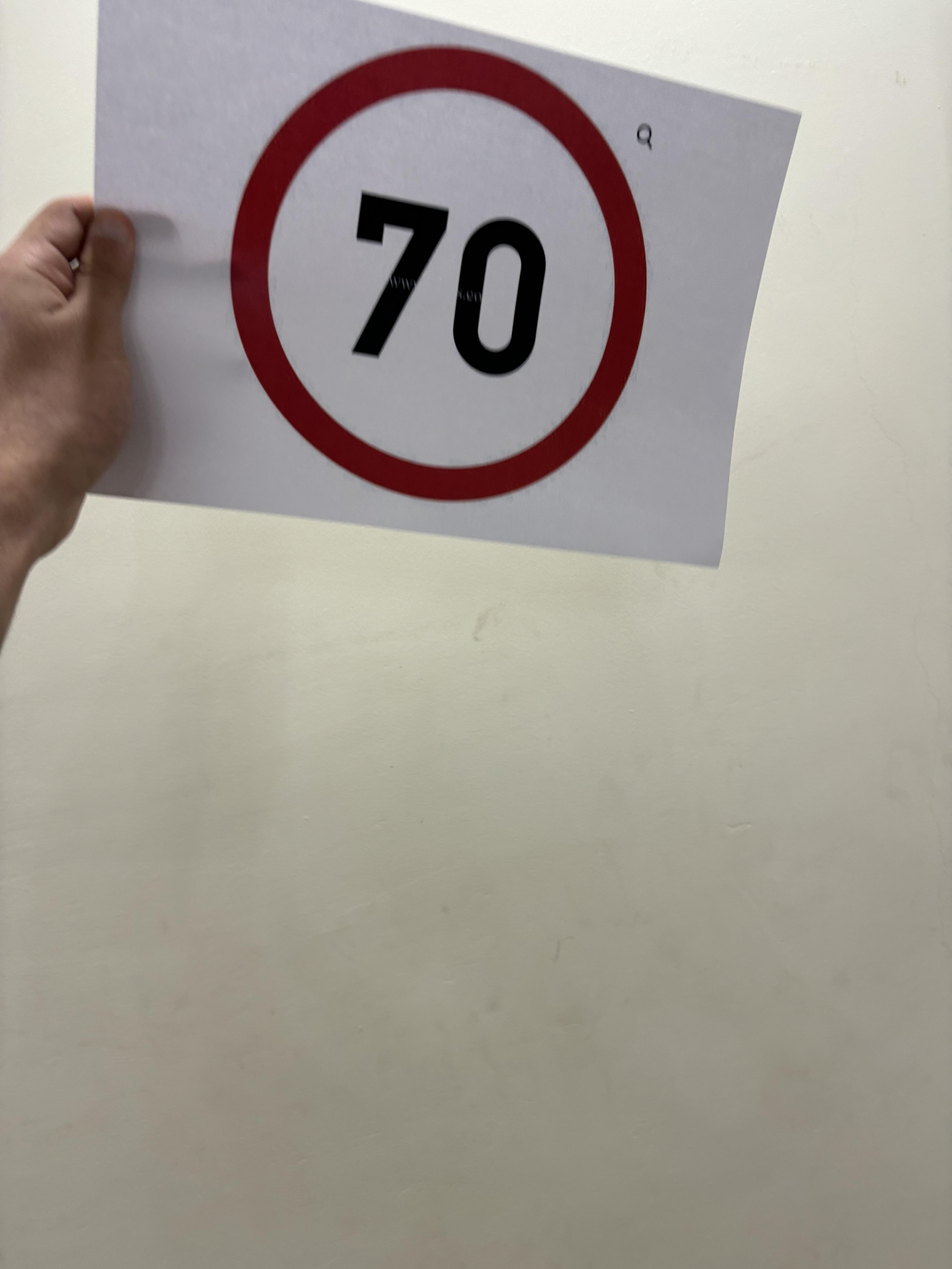70-Speed: (230, 43, 656, 509)
